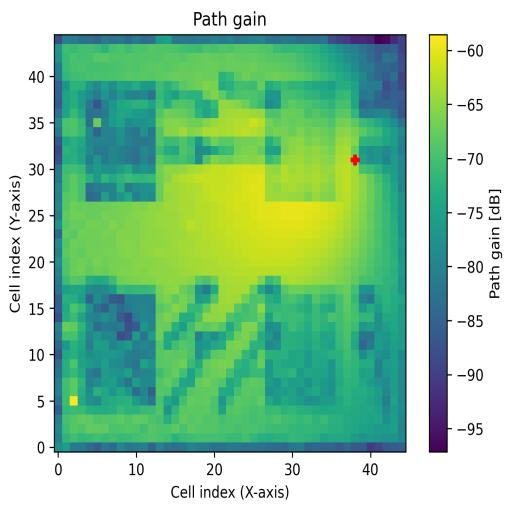Concrete: (265, 81, 337, 203)
Glass: (86, 79, 156, 201)
Metal: (266, 286, 336, 404)
Wood: (85, 285, 157, 405)
